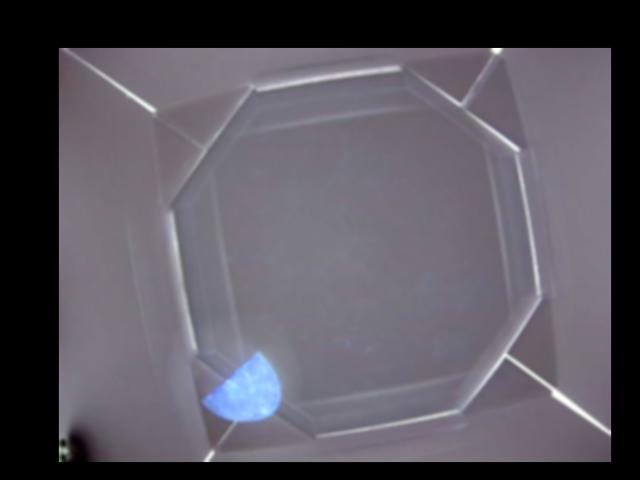Potato: (202, 348, 279, 421)
